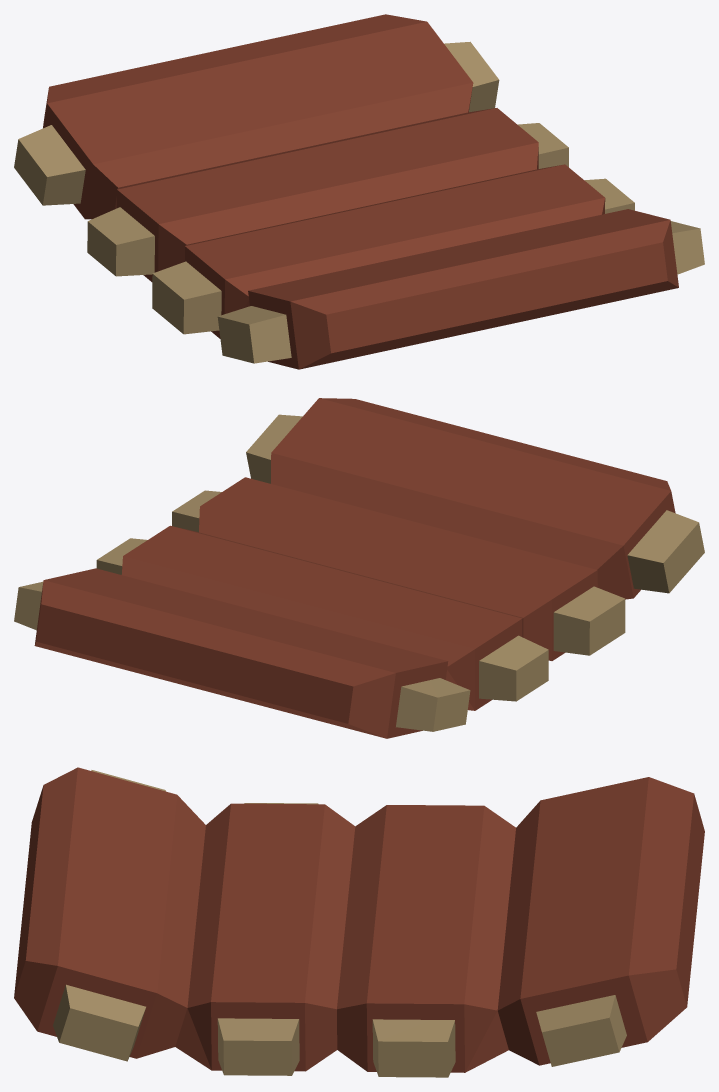
Rendered from meat.glb.
The picture shows the model from 3 angles, top to bottom: view 1: azimuth 30°, elevation 25°; view 2: azimuth 150°, elevation 25°; view 3: azimuth 270°, elevation 25°; orthographic projection. The views are drawn at different scales.
Parts seen in each view (by area): view 1: SM_Prop_Meat_01; view 2: SM_Prop_Meat_01; view 3: SM_Prop_Meat_01.
Part boxes in pixels (x1,y1,x2,y2): SM_Prop_Meat_01: (14,14,704,369); SM_Prop_Meat_01: (14,398,704,738); SM_Prop_Meat_01: (14,767,704,1077).
Size of the model in its own units: 31.65 by 6.36 by 37.88.
Materials: 1 (1 with a texture image).
